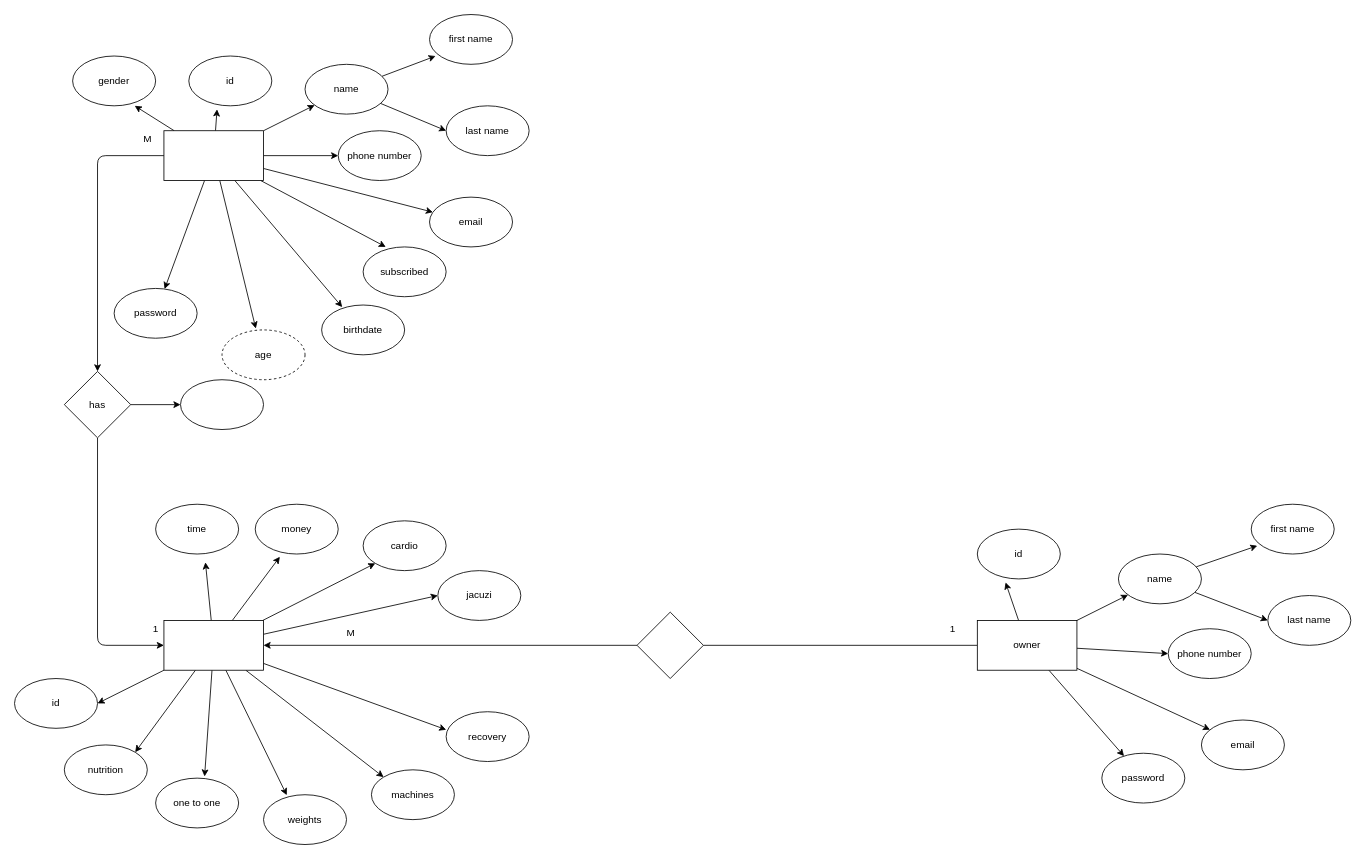
The diagram is 1365 pixels wide and 859 high, and some of its shapes have lost their labels. The shapes that lost their labels are listed below. From the top down, each one's centre as x and y in pixels, then its label:
the point at 213,155: trainee
the point at 222,404: End date
the point at 213,645: subscription
the point at 669,645: adds
